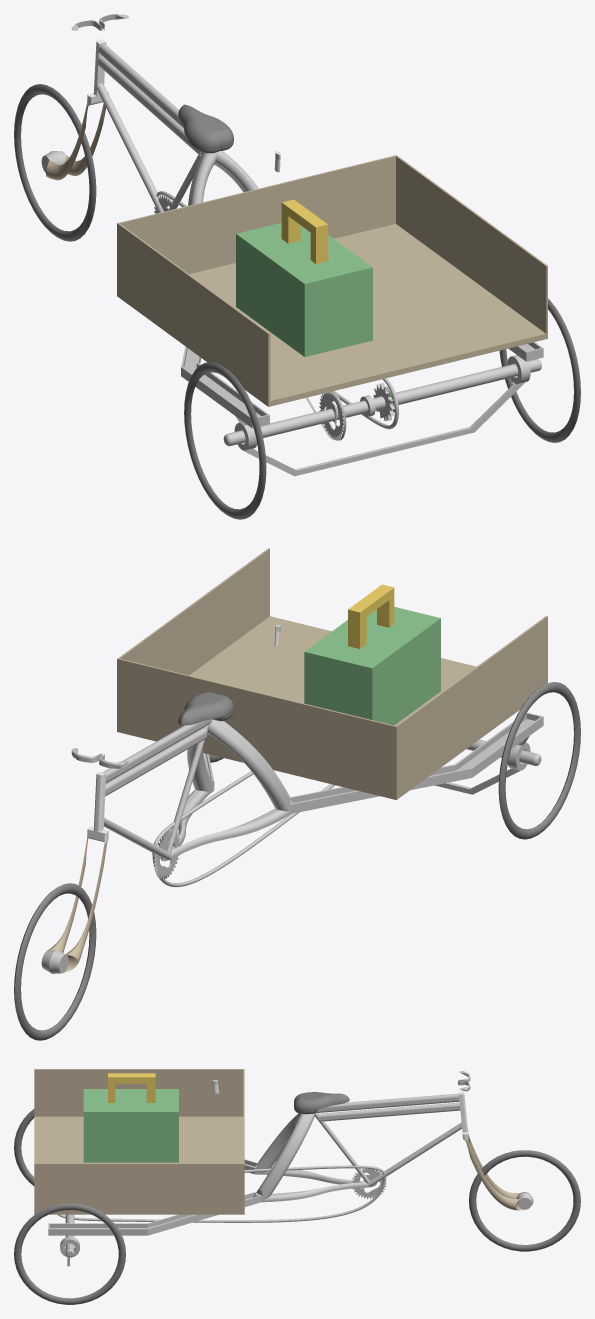
File: wooden-trike.glb
3 views of the same model, one above another, from view 1: azimuth 30°, elevation 25°; view 2: azimuth 150°, elevation 25°; view 3: azimuth 270°, elevation 25° (orthographic). The views are drawn at different scales.
Parts seen in each view (by area): view 1: g Body47, g Body1:1, g Body37, g Body39, g Body1, g Body46, g Body40, g Body2:1, g Body24, g Body21, g Body80, g Body20 (+5 smaller); view 2: g Body47, g Body1:1, g Body39, g Body1, g Body80, g Body21, g Body31, g Body2:1, g Body74, g Body34, g Body48, g Body24 (+6 smaller); view 3: g Body47, g Body1:1, g Body40, g Body1, g Body80, g Body26, g Body21, g Body48, g Body31, g Body20, g Body24, g Body2:1 (+7 smaller).
Boxes of the visible parts, box(x1,y1,x2,y2) form: g Body47: box(117, 155, 547, 406); g Body1:1: box(236, 222, 372, 356); g Body37: box(223, 359, 541, 446); g Body39: box(184, 362, 266, 519); g Body1: box(14, 84, 96, 241); g Body46: box(243, 382, 524, 476); g Body40: box(499, 298, 580, 442); g Body2:1: box(281, 199, 328, 263); g Body24: box(178, 104, 233, 153); g Body21: box(98, 56, 202, 210); g Body80: box(188, 151, 258, 205); g Body20: box(99, 43, 183, 128); g Body47: box(117, 548, 547, 799); g Body1:1: box(304, 607, 440, 725); g Body39: box(498, 682, 580, 839); g Body1: box(14, 883, 96, 1040); g Body80: box(187, 719, 290, 808); g Body21: box(105, 723, 209, 854); g Body31: box(170, 789, 290, 859); g Body2:1: box(348, 584, 394, 648); g Body74: box(417, 712, 543, 785); g Body34: box(291, 719, 543, 813); g Body48: box(152, 771, 334, 887); g Body24: box(178, 692, 233, 725); g Body47: box(34, 1069, 244, 1214); g Body1:1: box(83, 1089, 178, 1162); g Body40: box(14, 1203, 125, 1304); g Body1: box(469, 1150, 580, 1251); g Body80: box(256, 1113, 314, 1195); g Body26: box(48, 1214, 188, 1235); g Body21: box(313, 1102, 460, 1183); g Body48: box(57, 1165, 386, 1222); g Body31: box(262, 1167, 368, 1202); g Body20: box(315, 1093, 459, 1112); g Body24: box(294, 1092, 349, 1114); g Body2:1: box(108, 1073, 155, 1102).
Size of the model in its own units: 18.31 by 13.51 by 40.46.
